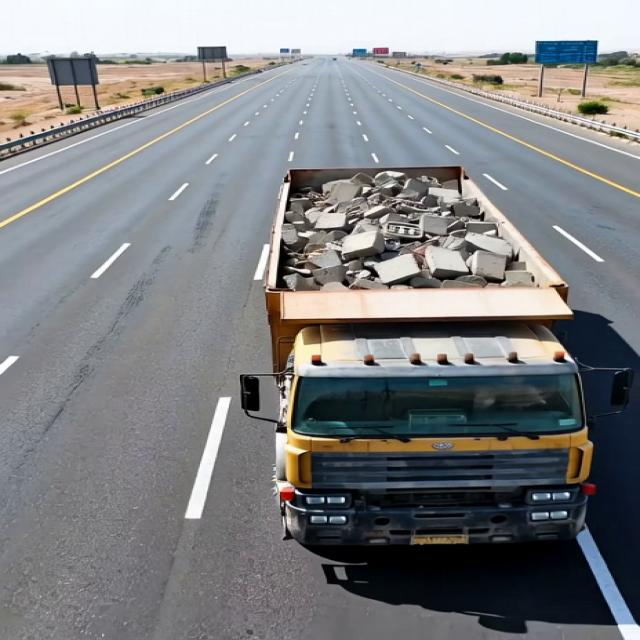Box: (233, 165, 590, 318)
Truck: (227, 149, 610, 559)
